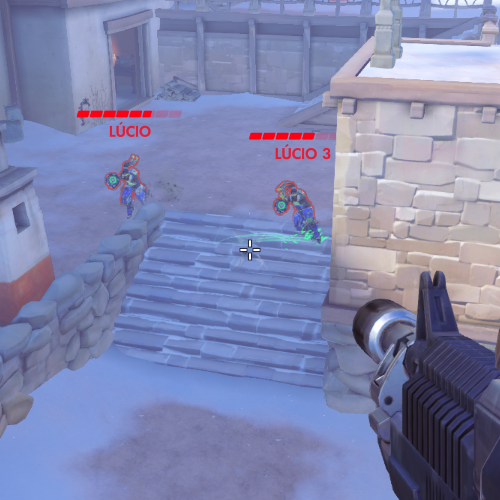hpbar: (76, 110, 182, 118), (249, 132, 336, 140)
